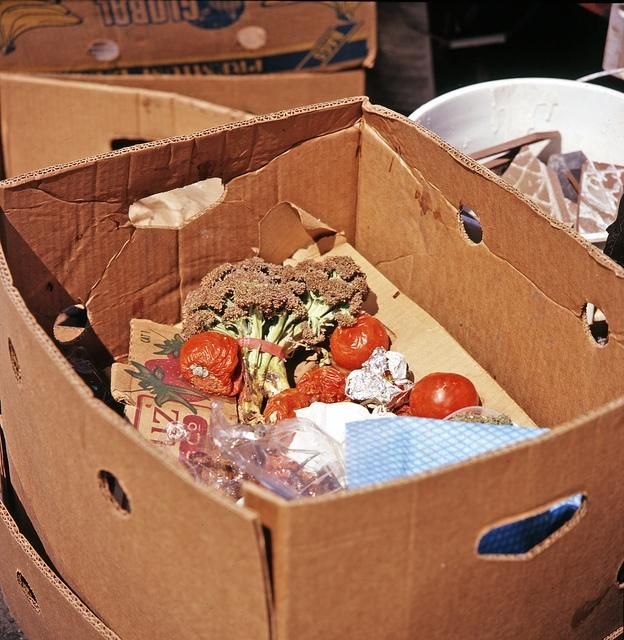banana: (1, 5, 71, 45), (11, 14, 82, 44), (260, 0, 339, 12), (0, 0, 61, 14)
broccoli: (200, 255, 370, 398), (233, 256, 268, 272), (280, 264, 296, 284)
tomato: (180, 332, 244, 397), (330, 314, 388, 372), (410, 372, 479, 419), (296, 366, 348, 404), (263, 388, 321, 422), (393, 404, 412, 416)
